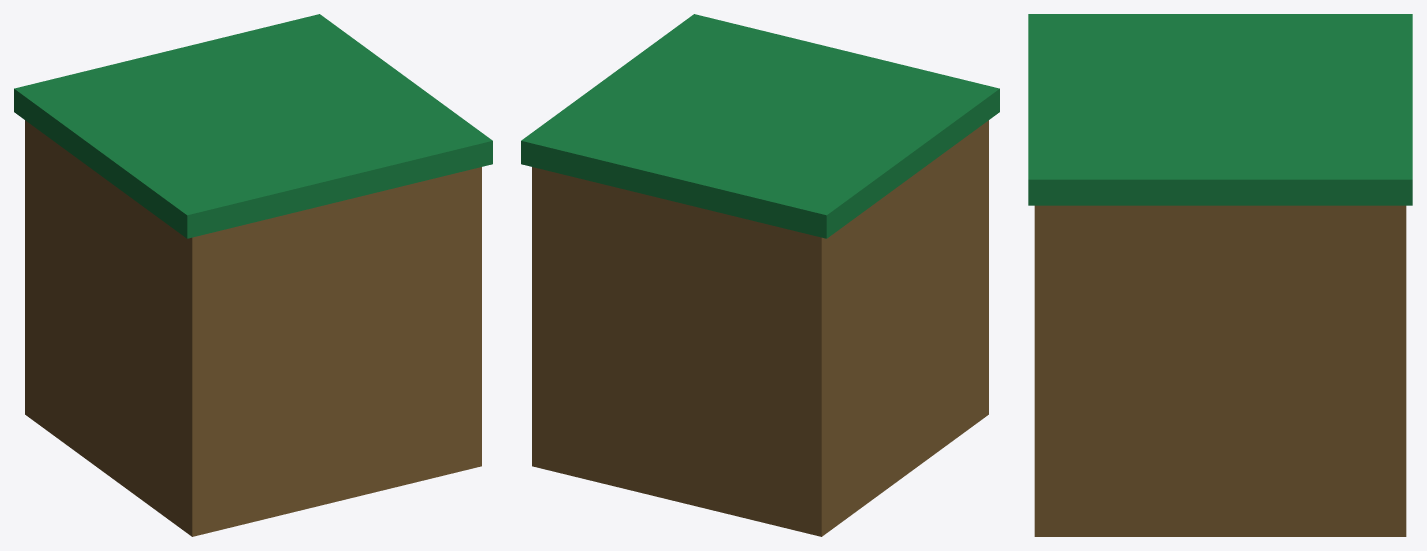
File: EdgeBlock.fbx
The picture shows the model from 3 angles, left to right: view 1: azimuth 30°, elevation 25°; view 2: azimuth 150°, elevation 25°; view 3: azimuth 270°, elevation 25°; orthographic projection. The views are drawn at different scales.
Parts seen in each view (by area): view 1: Dirt, Grass; view 2: Dirt, Grass; view 3: Dirt, Grass.
Boxes of the visible parts, bbox=[...] form: Dirt: bbox=[25, 120, 481, 536]; Grass: bbox=[14, 14, 492, 238]; Dirt: bbox=[532, 120, 988, 536]; Grass: bbox=[521, 14, 999, 238]; Dirt: bbox=[1034, 205, 1406, 536]; Grass: bbox=[1028, 14, 1412, 205].
Bounding box in the file's own units: 105 × 107 × 103.
